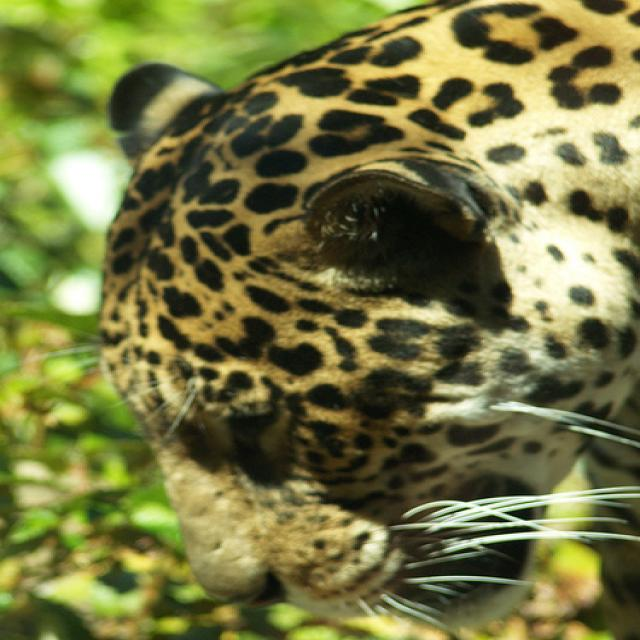Leopard: (89, 0, 635, 634)
